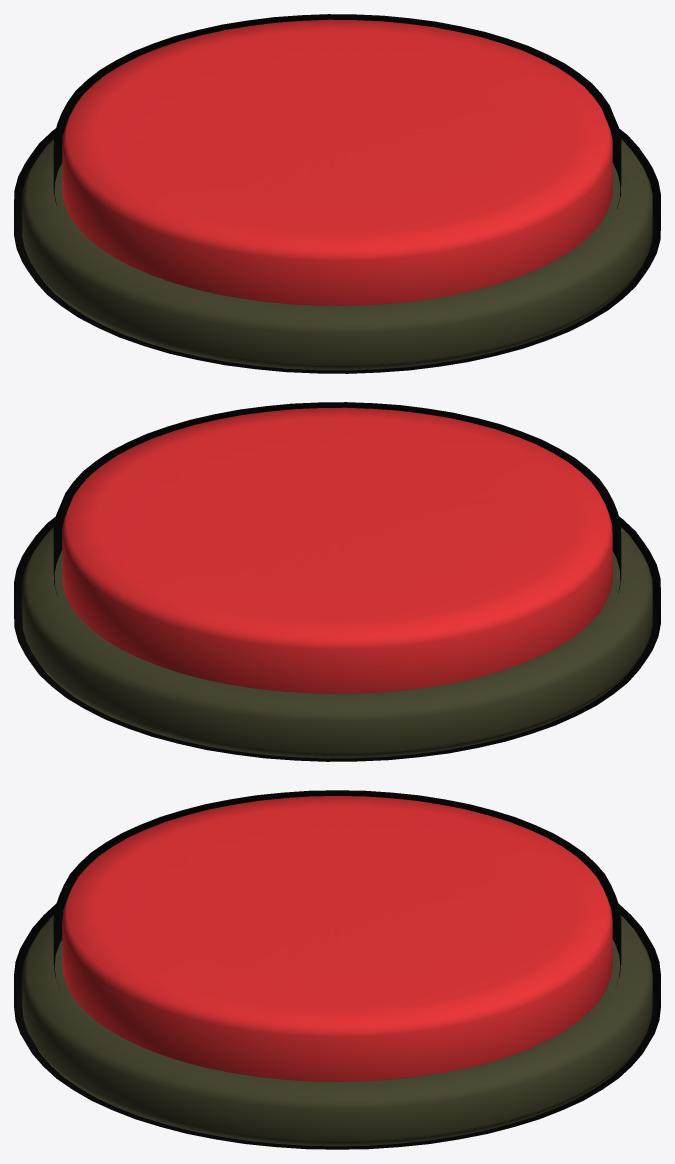
File: bottone.fbx
3 views of the same model, one above another, from view 1: azimuth 30°, elevation 25°; view 2: azimuth 150°, elevation 25°; view 3: azimuth 270°, elevation 25° (orthographic).
Visible parts, largest first — view 1: bottone 1, bottone 2, outline bottone 2.001, outline bottone 1; view 2: bottone 1, bottone 2, outline bottone 2.001, outline bottone 1; view 3: bottone 1, bottone 2, outline bottone 2.001, outline bottone 1.
Boxes of the visible parts, box(x1,y1,x2,y2) form: bottone 1: box(62, 19, 612, 305); bottone 2: box(22, 139, 652, 370); outline bottone 2.001: box(14, 128, 660, 373); outline bottone 1: box(53, 14, 621, 208); bottone 1: box(62, 407, 612, 693); bottone 2: box(22, 527, 652, 758); outline bottone 2.001: box(14, 516, 660, 761); outline bottone 1: box(53, 402, 621, 596); bottone 1: box(62, 796, 612, 1081); bottone 2: box(22, 915, 652, 1146); outline bottone 2.001: box(14, 904, 660, 1149); outline bottone 1: box(53, 790, 621, 987).
Bounding box in the file's own units: 57.11 × 11.01 × 57.11.
